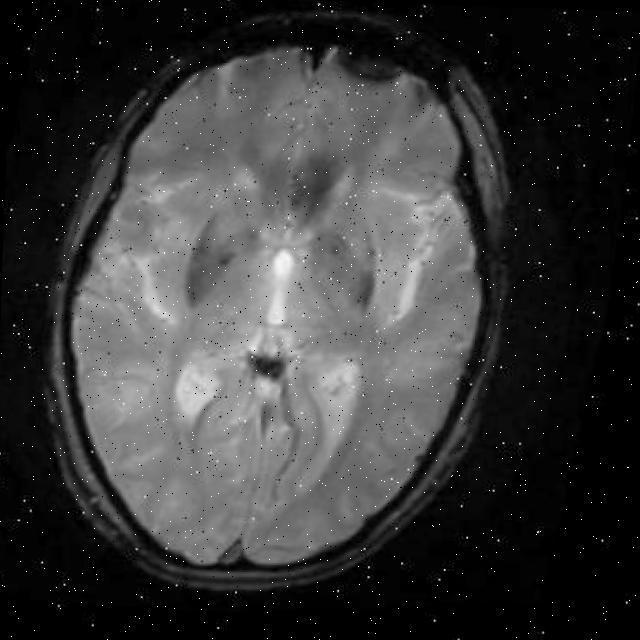CN: (352, 248, 418, 344)
EMCI: (260, 149, 376, 260)
MCI: (164, 199, 257, 329)
